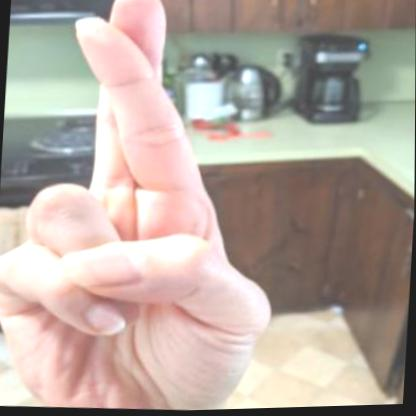R: (0, 0, 297, 416)
